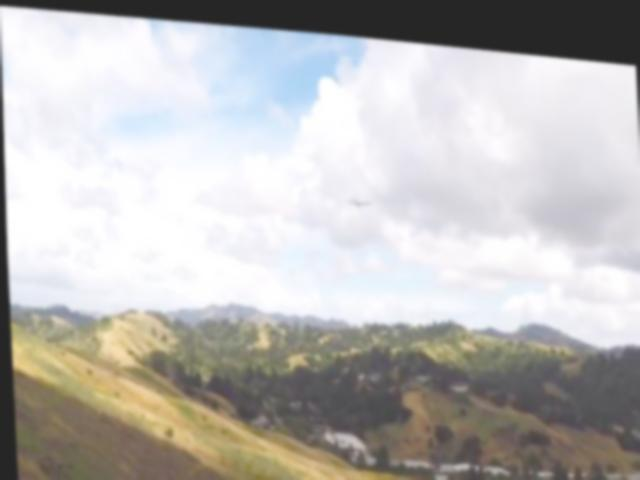iha: (341, 185, 373, 204)
